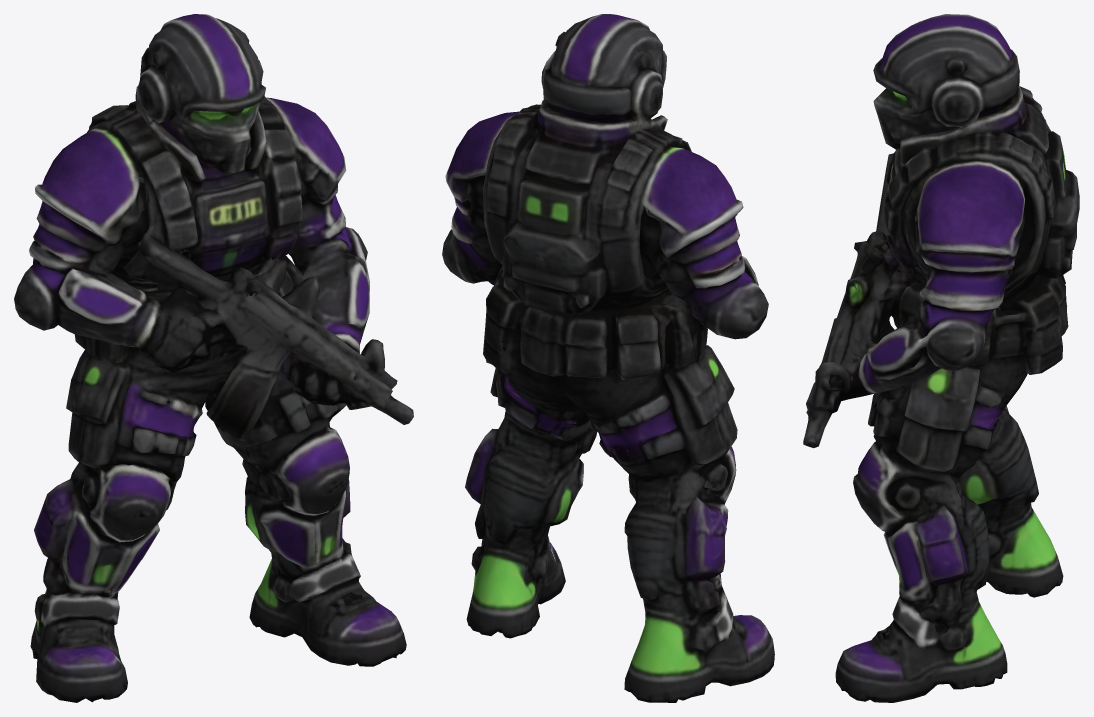
Rendered from sentinel_l04.glb.
3 renders of one model, left to right at view 1: azimuth 30°, elevation 25°; view 2: azimuth 150°, elevation 25°; view 3: azimuth 270°, elevation 25°, orthographic. The views are drawn at different scales.
Parts seen in each view (by area): view 1: world; view 2: world; view 3: world.
Boxes of the visible parts, left/top/right/bottom form: world: left=14, top=14, right=413, bottom=702; world: left=442, top=14, right=774, bottom=702; world: left=803, top=14, right=1079, bottom=702.
Size of the model in its own units: 0.5542 by 1 by 0.4126.
1 material, 1 textured.
